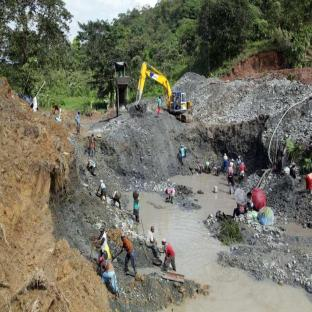ExcavationMachinery: (136, 54, 199, 126)
Person: (92, 223, 115, 256), (160, 237, 178, 268), (132, 191, 146, 225), (176, 141, 191, 164), (73, 111, 85, 136), (112, 189, 123, 212), (87, 135, 99, 156), (53, 100, 65, 121), (148, 226, 158, 251), (96, 180, 108, 200), (165, 188, 177, 202)
ProcessingEquipment: (103, 55, 136, 117)
